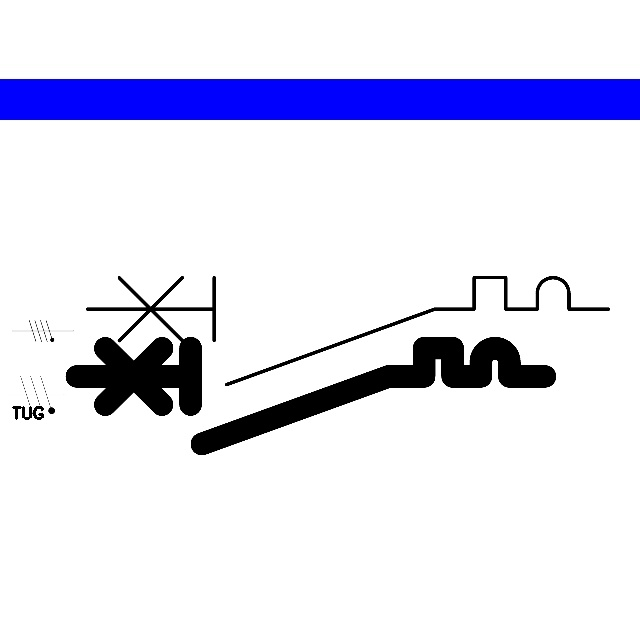interruptor_termomagnetico: (74, 264, 622, 398), (64, 336, 556, 456)
